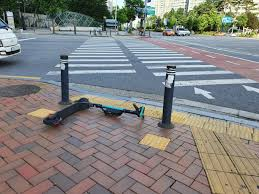fallin_kick: (44, 97, 144, 127)
guide_blocks: (194, 127, 259, 194), (175, 114, 257, 138), (140, 133, 170, 149), (82, 94, 124, 105), (30, 108, 55, 117)
